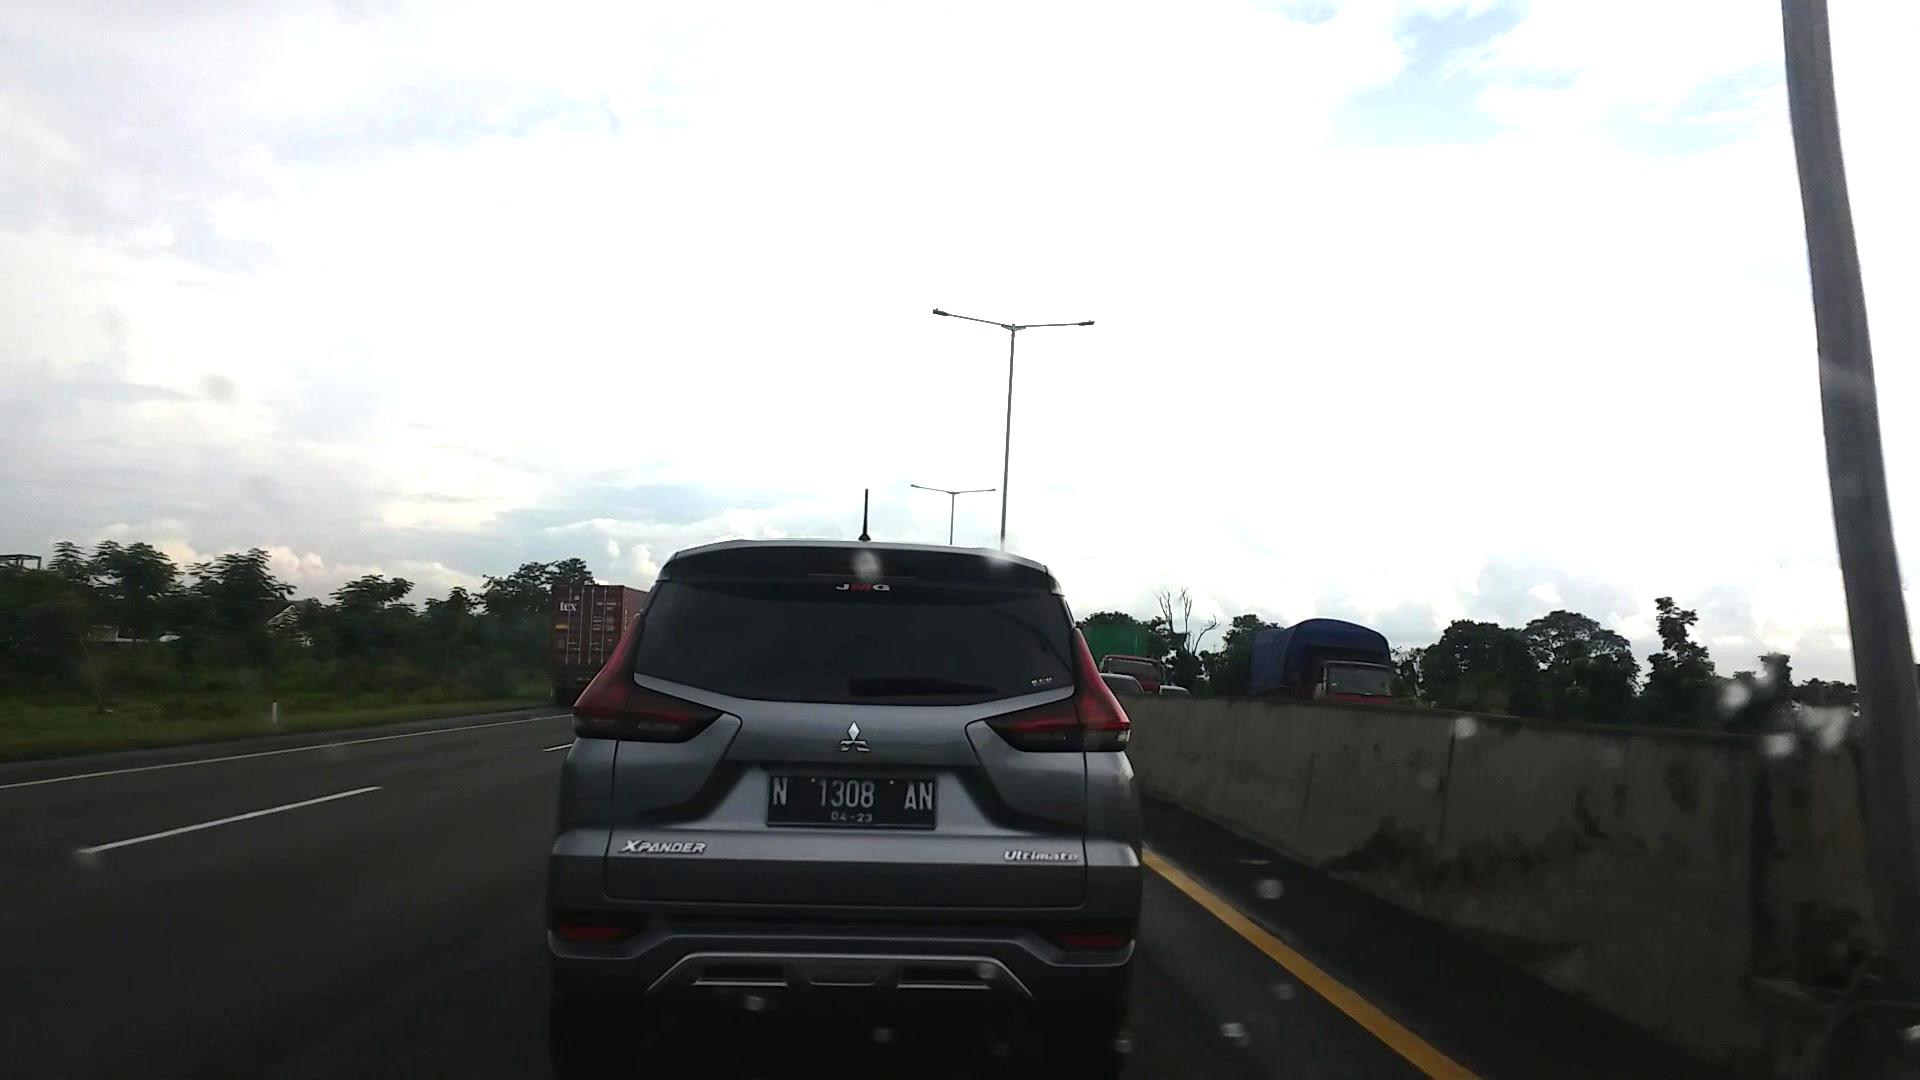plate_positive: (765, 771, 936, 828)
